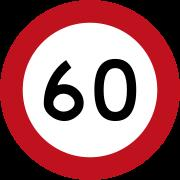Speed Limit -60-: (29, 33, 150, 149)
